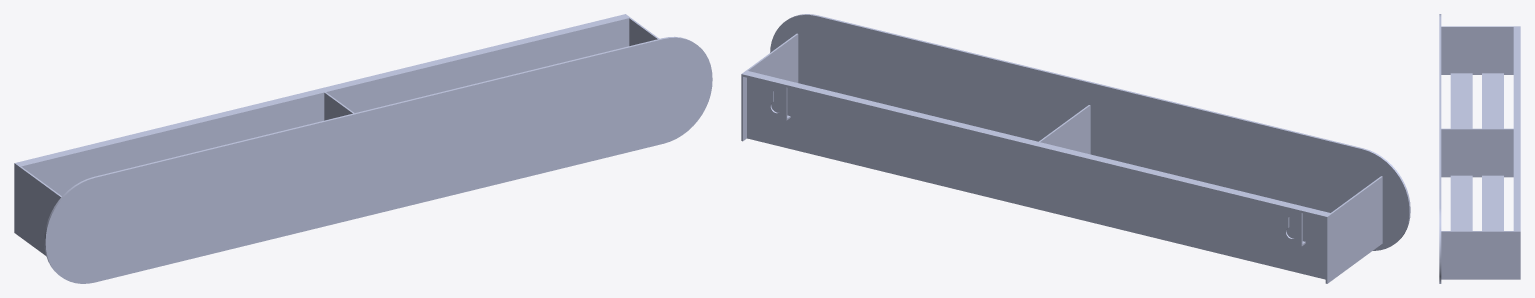
The model's file is round-mono.ca70e1e0db.glb.
3 renders of one model, left to right at view 1: azimuth 30°, elevation 25°; view 2: azimuth 150°, elevation 25°; view 3: azimuth 270°, elevation 25°, orthographic. The views are drawn at different scales.
Parts seen in each view (by area): view 1: NAUO1; view 2: NAUO1; view 3: NAUO1.
Boxes of the visible parts, x1=… form: NAUO1: x1=14, y1=14, x2=712, y2=283; NAUO1: x1=741, y1=14, x2=1410, y2=283; NAUO1: x1=1439, y1=14, x2=1520, y2=283.
Bounding box in the file's own units: 0.6 × 0.09 × 0.092.
